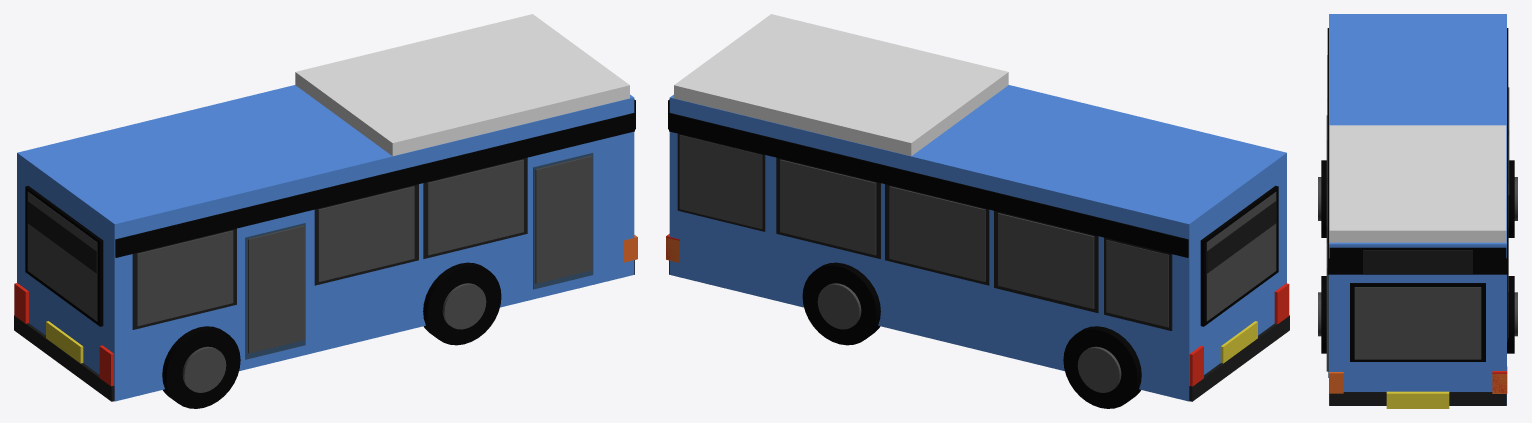
The model's file is bus.fbx.
3 views of the same model, side by side, from view 1: azimuth 30°, elevation 25°; view 2: azimuth 150°, elevation 25°; view 3: azimuth 270°, elevation 25° (orthographic). The views are drawn at different scales.
Visible parts, largest first — view 1: Cube.001, Cube.010, Cube.009, Cube.025, Cube.027, Cube.008, Cube.031, Cube.032, Cube.020, Cylinder.002, Cylinder.001, Cube.019 (+11 smaller); view 2: Cube.001, Cube.010, Cube.009, Cube.024, Cube.008, Cube.027, Cube.029, Cube.028, Cube.020, Cylinder.002, Cylinder.001, Cube.019 (+11 smaller); view 3: Cube.001, Cube.010, Cube.022, Cube.005, Cube.004, Cube.003, Cube.002, Cube, Cylinder.001, Cube.009, Cylinder.002, Cylinder (+7 smaller).
Boxes of the visible parts, x1,y1,x2,y2 form: Cube.001: [17, 85, 634, 401]; Cube.010: [295, 14, 629, 156]; Cube.009: [115, 113, 634, 257]; Cube.025: [137, 230, 233, 326]; Cube.027: [427, 159, 523, 255]; Cube.008: [318, 186, 414, 281]; Cube.031: [535, 156, 592, 283]; Cube.032: [248, 225, 304, 353]; Cube.020: [27, 192, 97, 321]; Cylinder.002: [162, 326, 240, 408]; Cylinder.001: [423, 262, 501, 345]; Cube.019: [14, 315, 114, 401]; Cube.001: [669, 85, 1286, 401]; Cube.010: [674, 14, 1008, 156]; Cube.009: [669, 113, 1188, 257]; Cube.024: [998, 213, 1094, 308]; Cube.008: [889, 186, 985, 281]; Cube.027: [780, 159, 876, 255]; Cube.029: [679, 135, 762, 228]; Cube.028: [1106, 240, 1168, 327]; Cube.020: [1206, 192, 1276, 321]; Cylinder.002: [1063, 326, 1141, 408]; Cylinder.001: [802, 262, 880, 345]; Cube.019: [1189, 315, 1289, 401]; Cube.001: [1329, 14, 1506, 405]; Cube.010: [1329, 125, 1506, 242]; Cube.022: [1354, 287, 1481, 359]; Cube.005: [1363, 250, 1472, 273]; Cube.004: [1329, 247, 1506, 274]; Cube.003: [1350, 283, 1485, 361]; Cube.002: [1329, 392, 1506, 405]; Cube: [1386, 391, 1449, 408]; Cylinder.001: [1321, 276, 1514, 353]; Cube.009: [1327, 28, 1508, 274]; Cylinder.002: [1321, 160, 1514, 237]; Cylinder: [1318, 292, 1517, 336].
Size of the model in its own units: 1758 by 682 by 634.
